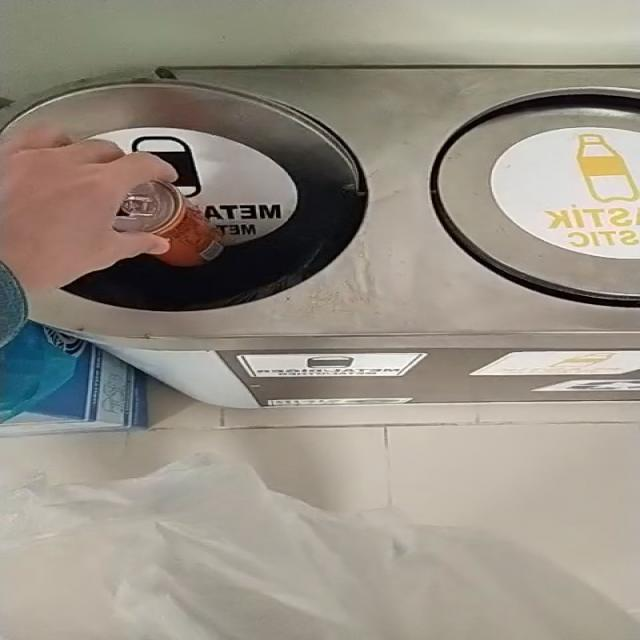Bin: (4, 65, 640, 409)
Metal: (112, 180, 223, 267)
